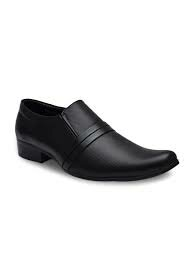Formal: (11, 94, 185, 186)
